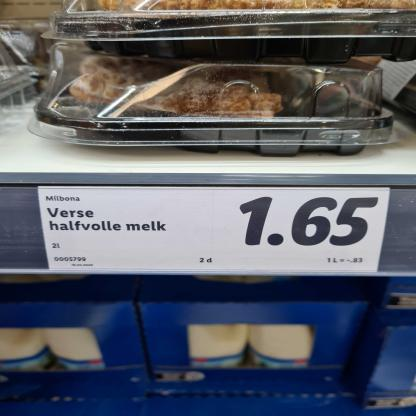prtg: (38, 188, 391, 274)
